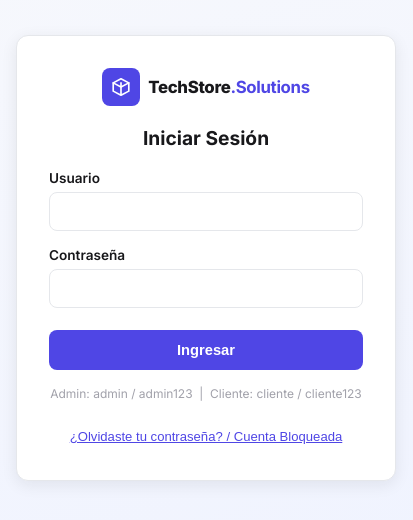
Test: Login › muestra errores si se envía el formulario vacío
Click the button "Ingresar" at (206, 350), box left=49, top=330, right=363, bottom=370
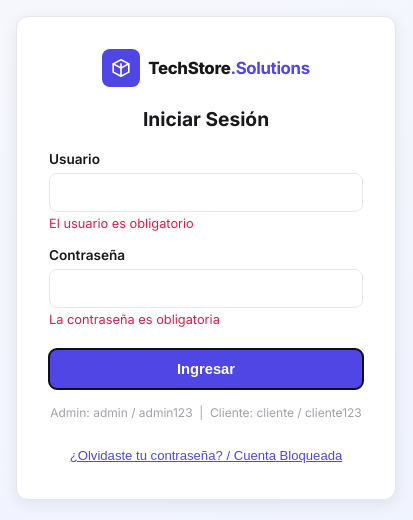
Now the text "El usuario es obligatorio" is shown, box left=49, top=216, right=194, bottom=231
Now the text "La contraseña es obligatoria" is shown, box left=49, top=312, right=220, bottom=327
